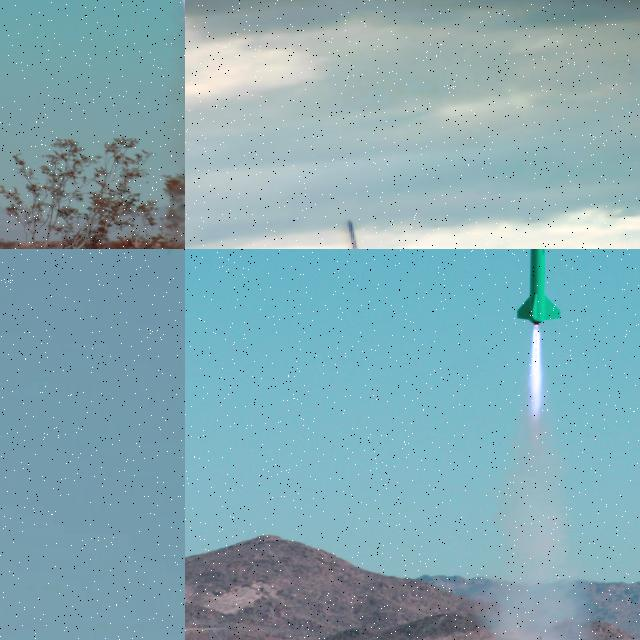Rocket: (514, 249, 562, 325), (345, 219, 363, 249)
